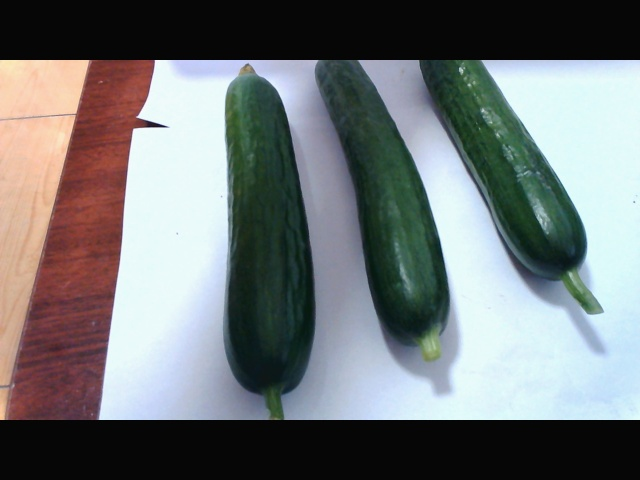cucumber: (310, 59, 450, 359), (432, 56, 598, 309), (210, 69, 314, 416)
